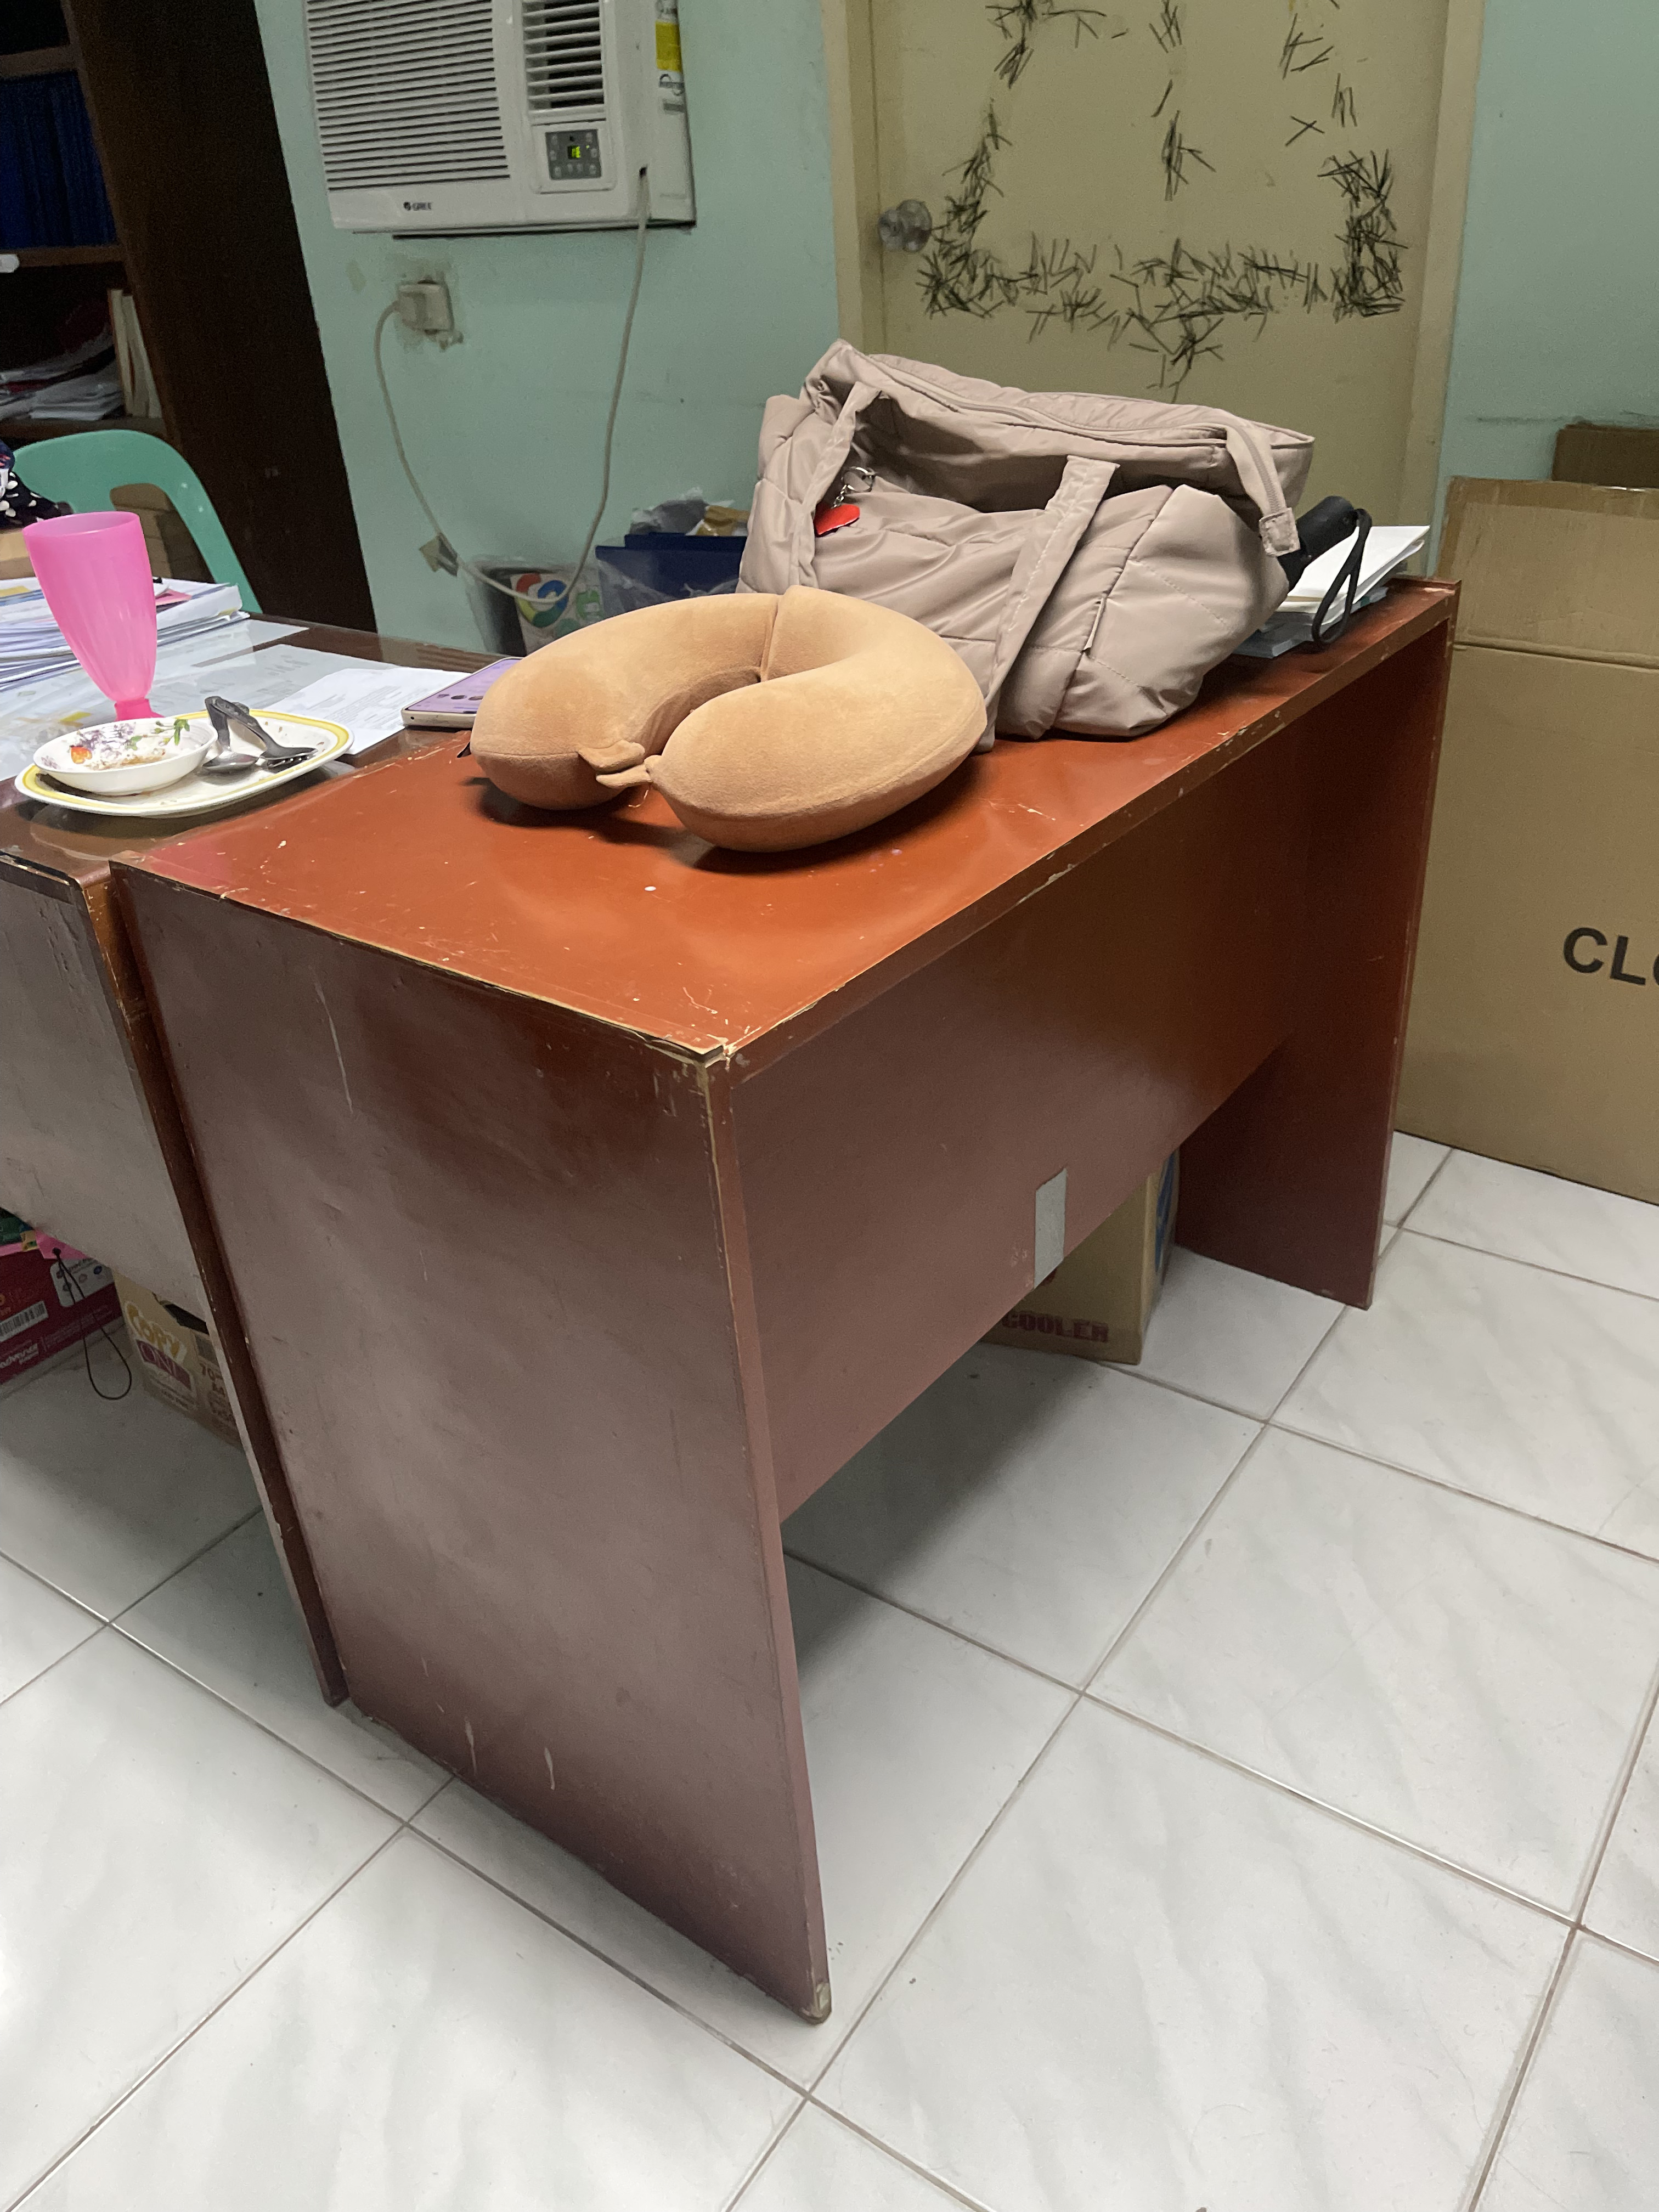table2: (7, 503, 1500, 2048)
